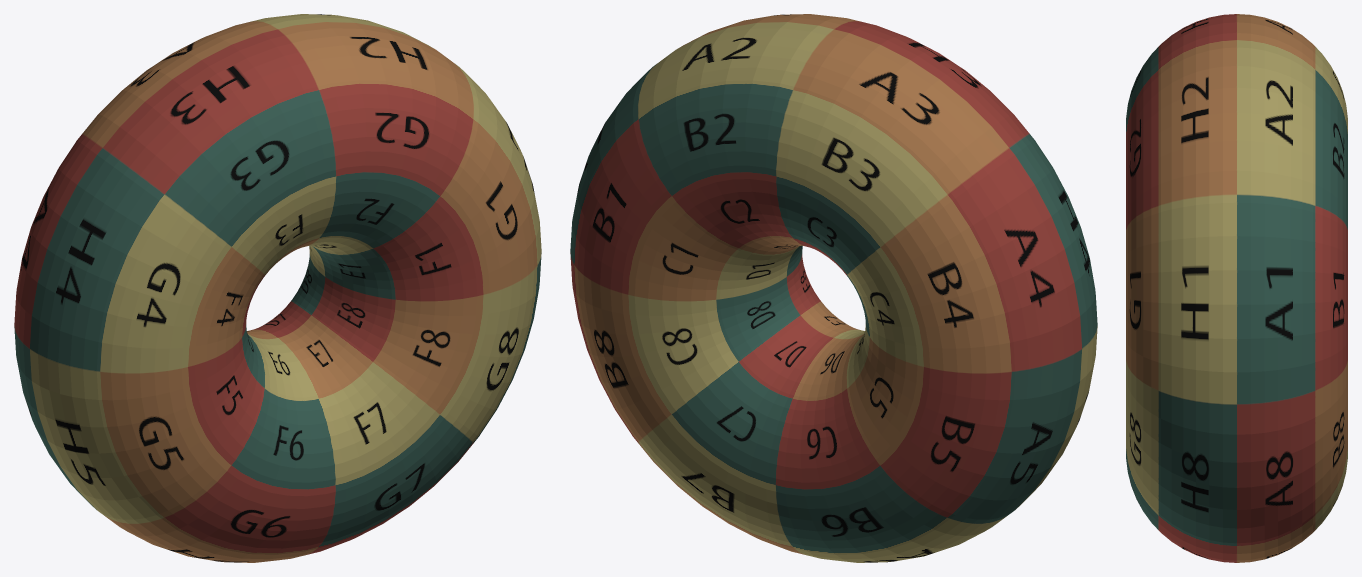
The model's file is texture_torus_R0_r18.glb.
3 renders of one model, left to right at view 1: azimuth 30°, elevation 25°; view 2: azimuth 150°, elevation 25°; view 3: azimuth 270°, elevation 25°, orthographic. The views are drawn at different scales.
Visible parts, largest first — view 1: world; view 2: world; view 3: world.
Part boxes in pixels (bbox=[...]): world: bbox=[14, 14, 541, 562]; world: bbox=[570, 14, 1097, 562]; world: bbox=[1126, 14, 1347, 562].
Size of the model in its own units: 16.8 by 16.77 by 6.79.
1 material, 1 textured.
